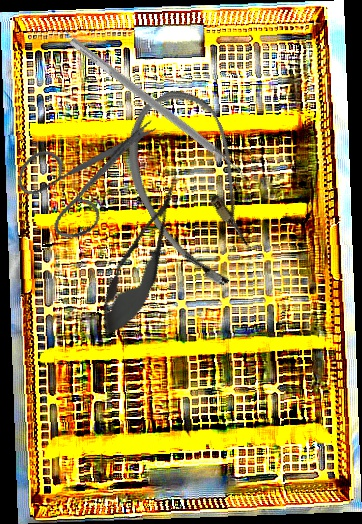Cannula: (102, 77, 290, 300)
Iris Scissors: (7, 88, 159, 254)
Micro Scissor: (88, 168, 198, 346)
Spatula Surgical: (63, 36, 255, 188)
